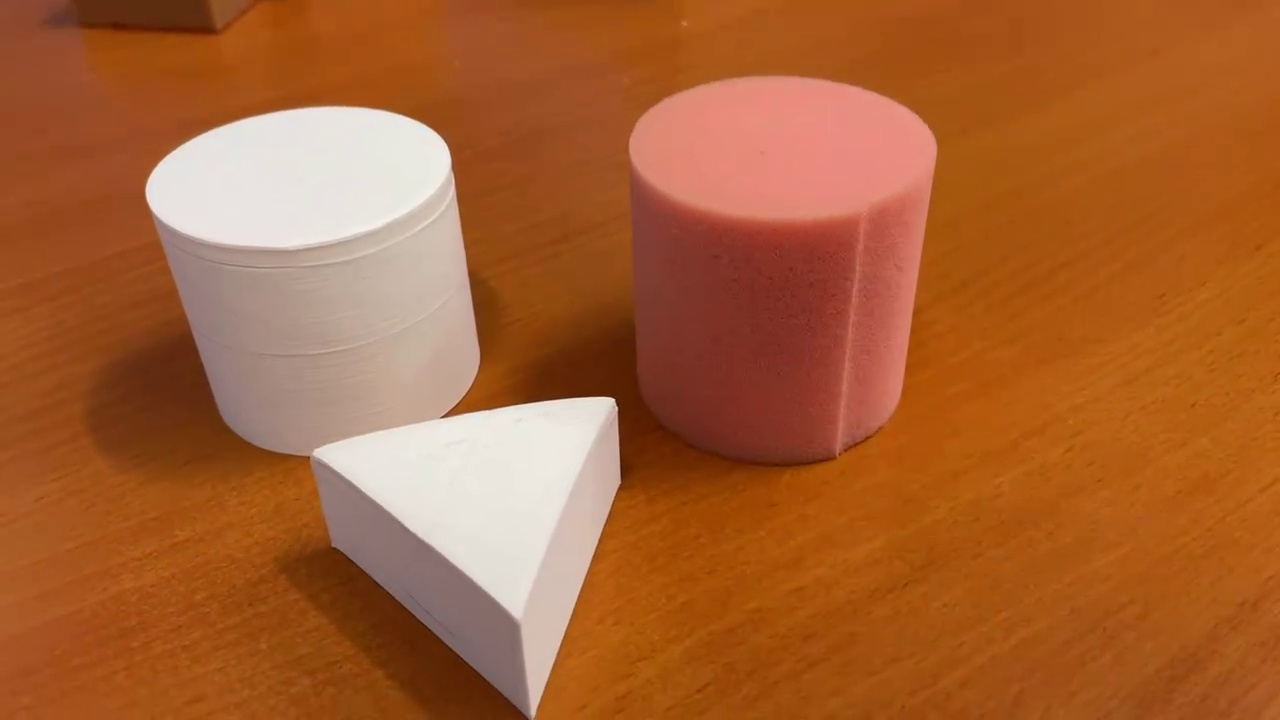Cylinder: (624, 71, 942, 469), (143, 96, 487, 461)
Triangle_short: (304, 388, 622, 720)
